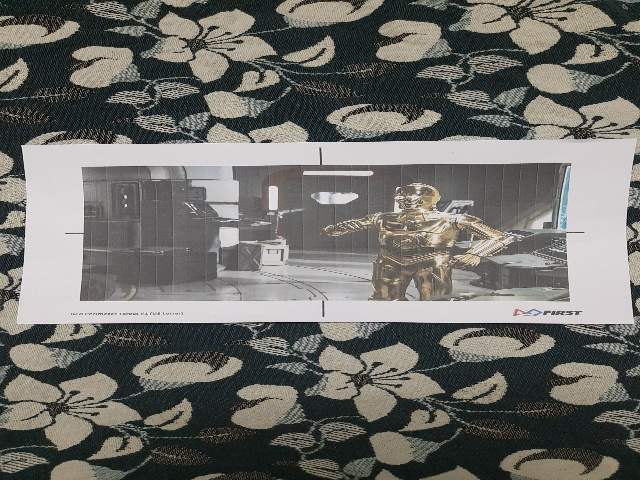rpt1: (43, 158, 621, 320)
